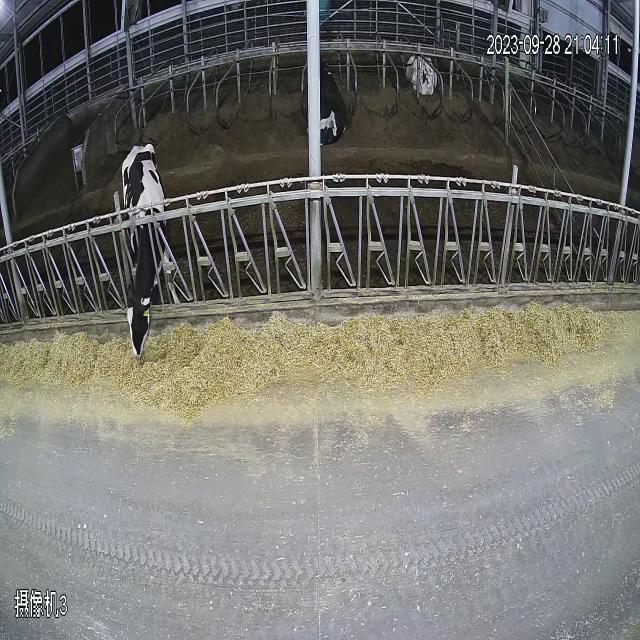feeding: (97, 112, 187, 392)
lying down: (296, 39, 364, 174), (399, 35, 453, 111)
